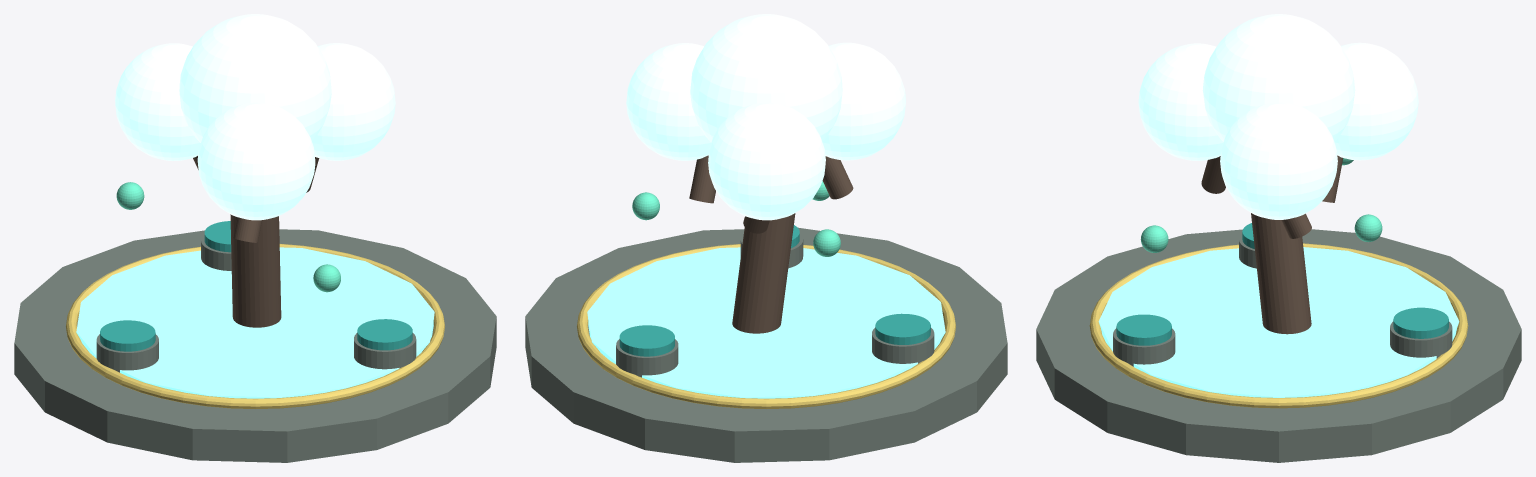
The model's file is Santuario_Mascotas_3D_Blender.fbx.
The picture shows the model from 3 angles, left to right: view 1: azimuth 30°, elevation 25°; view 2: azimuth 150°, elevation 25°; view 3: azimuth 270°, elevation 25°; orthographic projection.
Visible parts, largest first — view 1: Sanctuary_BasePlatform, ManaPool_Water, SpiritFoliage_Crown, SpiritFoliage_3, SpiritFoliage_2, SpiritFoliage_1, Basin_GoldLip, SpiritTree_Trunk, PetCushion_2, PetCushion_3, PetPlinth_2, PetPlinth_3 (+5 smaller); view 2: Sanctuary_BasePlatform, ManaPool_Water, SpiritFoliage_Crown, SpiritFoliage_2, SpiritFoliage_1, SpiritFoliage_3, Basin_GoldLip, SpiritTree_Trunk, PetCushion_1, PetCushion_2, PetPlinth_1, PetPlinth_2 (+4 smaller); view 3: Sanctuary_BasePlatform, ManaPool_Water, SpiritFoliage_Crown, SpiritFoliage_1, SpiritFoliage_3, SpiritFoliage_2, Basin_GoldLip, SpiritTree_Trunk, PetCushion_3, PetCushion_1, PetPlinth_3, PetPlinth_1 (+4 smaller).
Part boxes in pixels (x1,y1,x2,y2): Sanctuary_BasePlatform: (14,229,496,462); ManaPool_Water: (76,247,434,398); SpiritFoliage_Crown: (179,14,331,142); SpiritFoliage_3: (197,102,315,220); SpiritFoliage_2: (115,43,200,160); SpiritFoliage_1: (312,43,395,160); Basin_GoldLip: (66,244,444,408); SpiritTree_Trunk: (230,214,281,327); PetCushion_2: (100,320,155,351); PetCushion_3: (357,319,412,350); PetPlinth_2: (96,334,158,372); PetPlinth_3: (354,333,416,369); Sanctuary_BasePlatform: (525,227,1007,462); ManaPool_Water: (587,247,945,398); SpiritFoliage_Crown: (690,14,842,142); SpiritFoliage_2: (708,102,825,220); SpiritFoliage_1: (626,43,711,160); SpiritFoliage_3: (822,42,905,160); Basin_GoldLip: (577,244,955,408); SpiritTree_Trunk: (732,213,795,333); PetCushion_1: (619,325,674,356); PetCushion_2: (875,313,930,344); PetPlinth_1: (616,339,678,377); PetPlinth_2: (872,328,934,363); Sanctuary_BasePlatform: (1036,229,1521,462); ManaPool_Water: (1098,247,1459,397); SpiritFoliage_Crown: (1202,14,1355,141); SpiritFoliage_1: (1220,102,1337,219); SpiritFoliage_3: (1138,43,1223,160); SpiritFoliage_2: (1334,42,1418,160); Basin_GoldLip: (1089,243,1468,408); SpiritTree_Trunk: (1251,213,1311,334); PetCushion_3: (1116,314,1171,345); PetCushion_1: (1393,307,1448,338); PetPlinth_3: (1113,328,1175,366); PetPlinth_1: (1390,321,1452,358).
Size of the model in its own units: 700 by 540 by 700.
